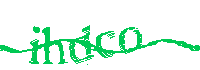c: (96, 29, 116, 60)
d: (69, 24, 93, 65)
h: (42, 28, 66, 65)
i: (28, 24, 41, 65)
o: (119, 26, 144, 54)
